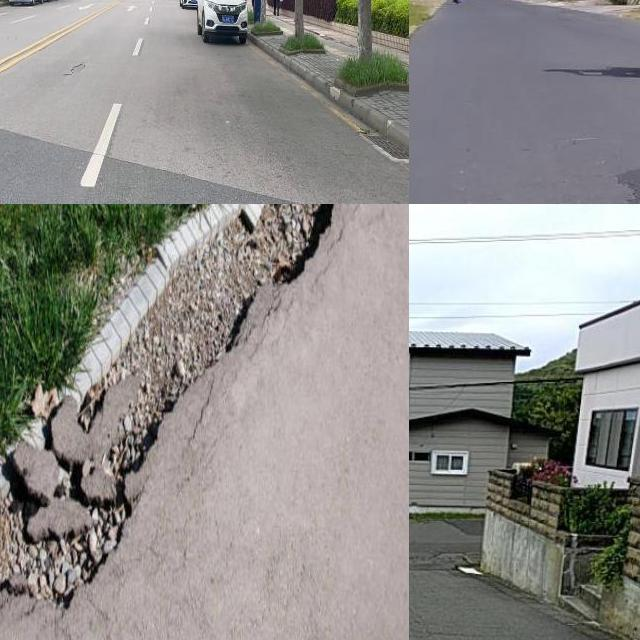Pinggir: (0, 204, 345, 616)
